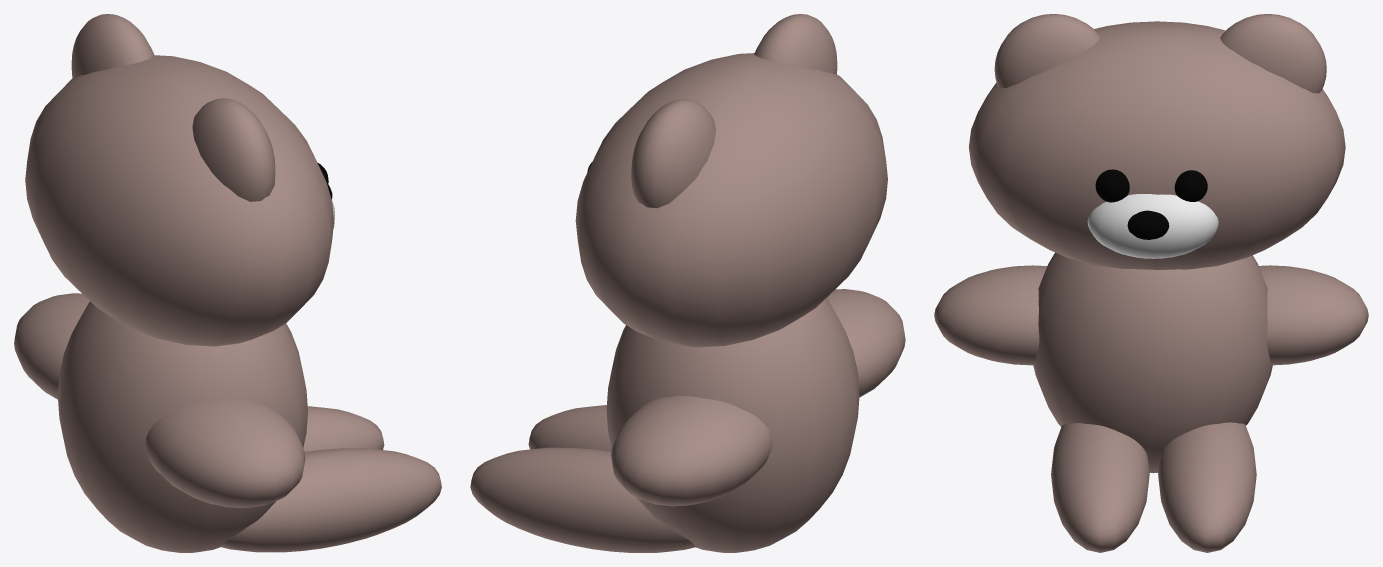
File: Bear Plushie.fbx
The picture shows the model from 3 angles, left to right: view 1: azimuth 30°, elevation 25°; view 2: azimuth 150°, elevation 25°; view 3: azimuth 270°, elevation 25°; orthographic projection. The views are drawn at different scales.
Visible parts, largest first — view 1: pSphere1, pSphere9, pSphere12, pSphere10, pSphere3, pSphere11, pSphere2, pSphere13; view 2: pSphere1, pSphere9, pSphere13, pSphere11, pSphere2, pSphere10, pSphere3, pSphere12; view 3: pSphere1, pSphere9, pSphere13, pSphere12, pSphere10, pSphere11, pSphere4, pSphere2, pSphere3, pSphere8, pSphere7, pSphere6.
Part boxes in pixels (x1,y1,x2,y2): pSphere1: (25,55,333,346); pSphere9: (58,301,307,552); pSphere12: (219,448,441,552); pSphere10: (145,398,305,508); pSphere3: (192,98,275,201); pSphere11: (14,293,89,399); pSphere2: (71,14,154,78); pSphere13: (303,406,384,451); pSphere1: (575,53,887,347); pSphere9: (606,298,859,552); pSphere13: (470,447,696,552); pSphere11: (611,396,772,506); pSphere2: (631,99,715,208); pSphere10: (827,289,905,397); pSphere3: (754,14,837,74); pSphere12: (528,405,611,451); pSphere1: (969,21,1345,270); pSphere9: (1033,252,1272,473); pSphere13: (1158,422,1256,552); pSphere12: (1051,423,1149,552); pSphere10: (934,265,1047,365); pSphere11: (1259,265,1368,365); pSphere4: (1087,194,1218,258); pSphere2: (1220,14,1326,93); pSphere3: (994,14,1099,88); pSphere8: (1127,210,1169,239); pSphere7: (1095,169,1129,202); pSphere6: (1174,170,1207,201).
Size of the model in its own units: 4.6 by 6.16 by 5.37.
